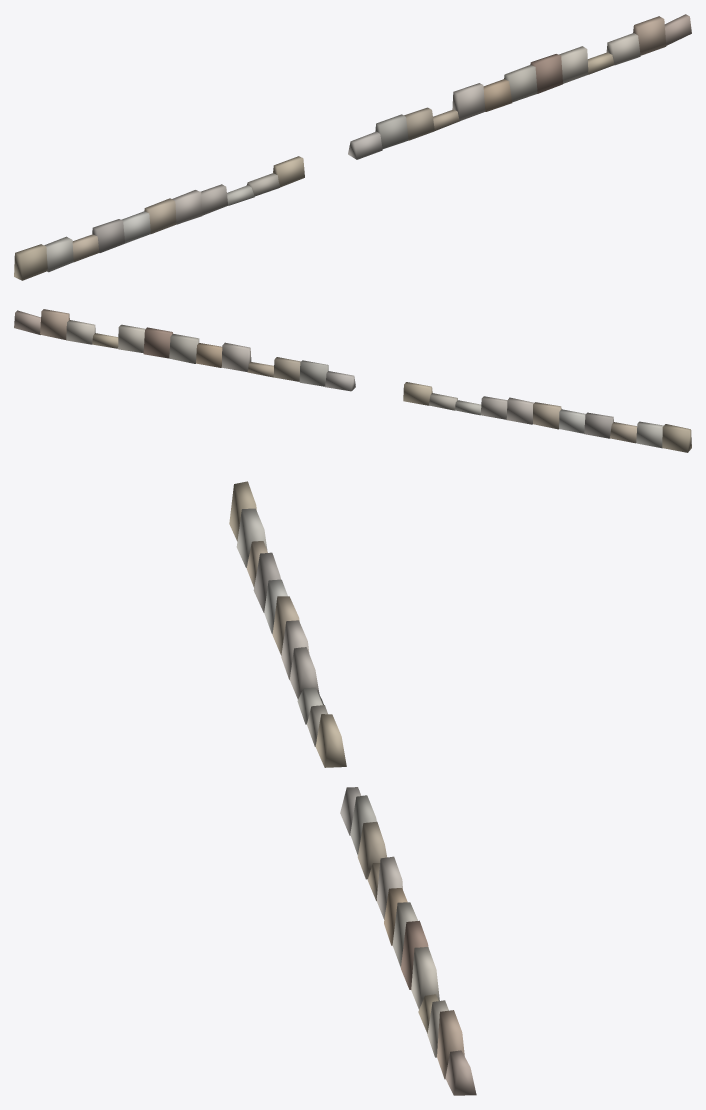
The model's file is farm_-34_-41_far.glb.
3 views of the same model, one above another, from view 1: azimuth 30°, elevation 25°; view 2: azimuth 150°, elevation 25°; view 3: azimuth 270°, elevation 25° (orthographic). The views are drawn at different scales.
Parts seen in each view (by area): view 1: geometry_0; view 2: geometry_0; view 3: geometry_0.
Part boxes in pixels (box(x1,y1,x2,y2)): geometry_0: box(14, 14, 691, 280); geometry_0: box(14, 309, 691, 452); geometry_0: box(229, 481, 476, 1095).
Size of the model in its own units: 41.07 by 2.24 by 7.11.
